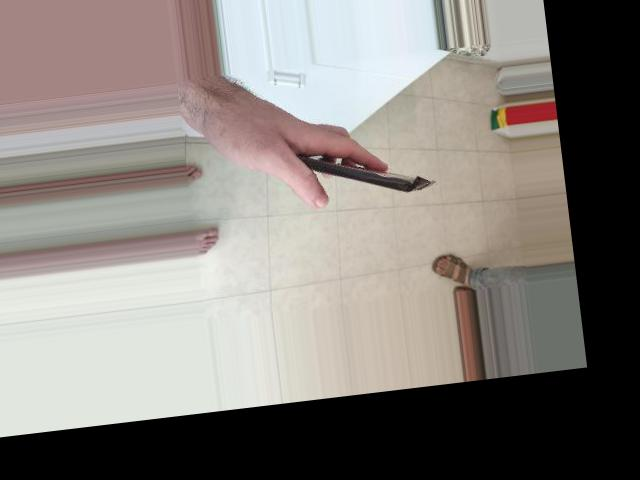chocolate: (271, 125, 440, 220)
